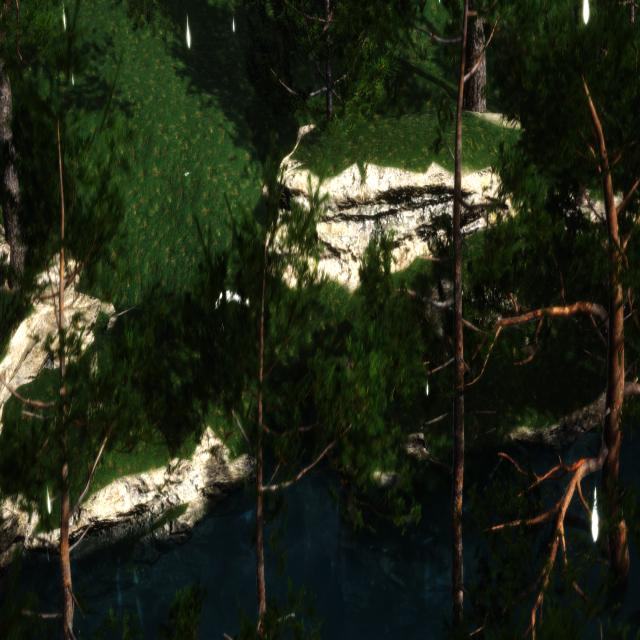Human: (212, 250, 262, 338)
